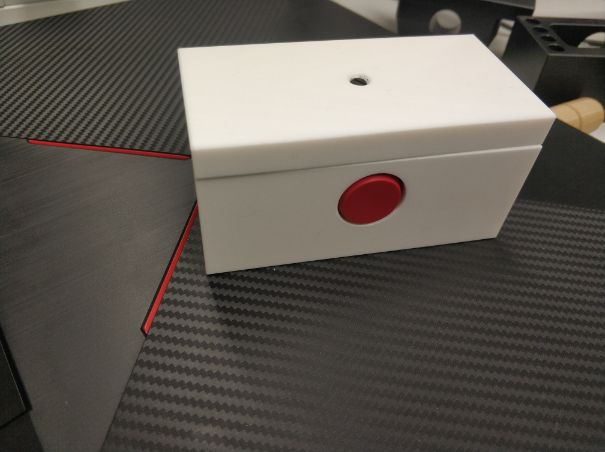white+white+red: (172, 29, 561, 280)
